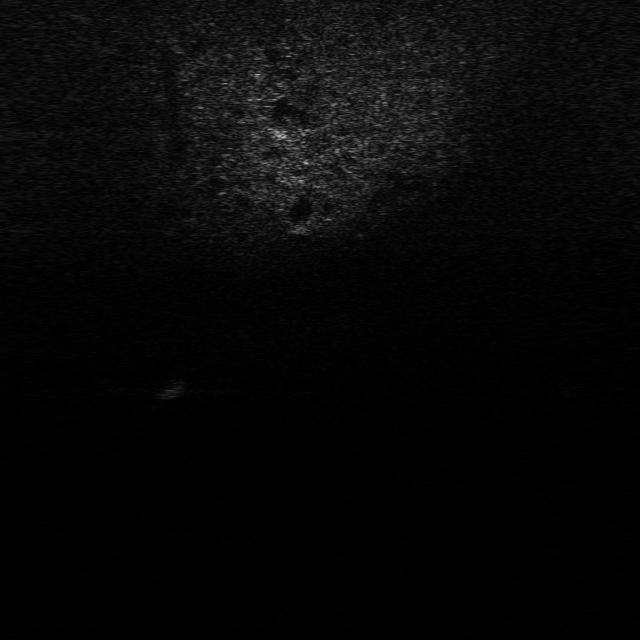cylinder: (152, 374, 190, 414)
